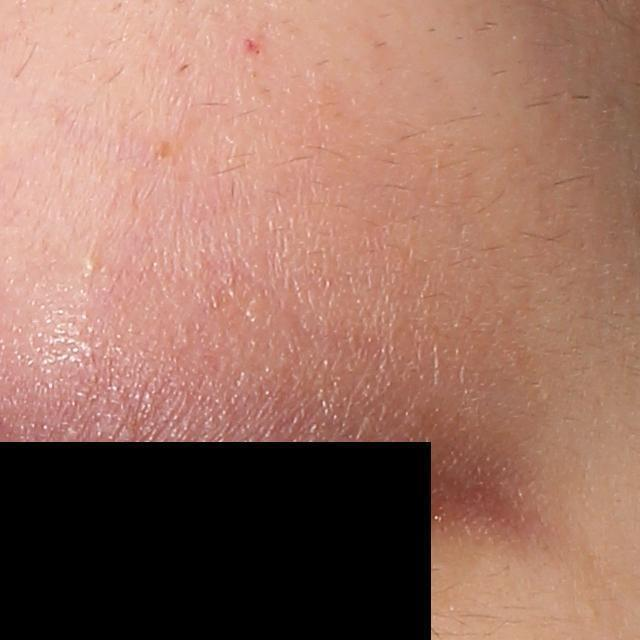comedo: (78, 257, 99, 277)
